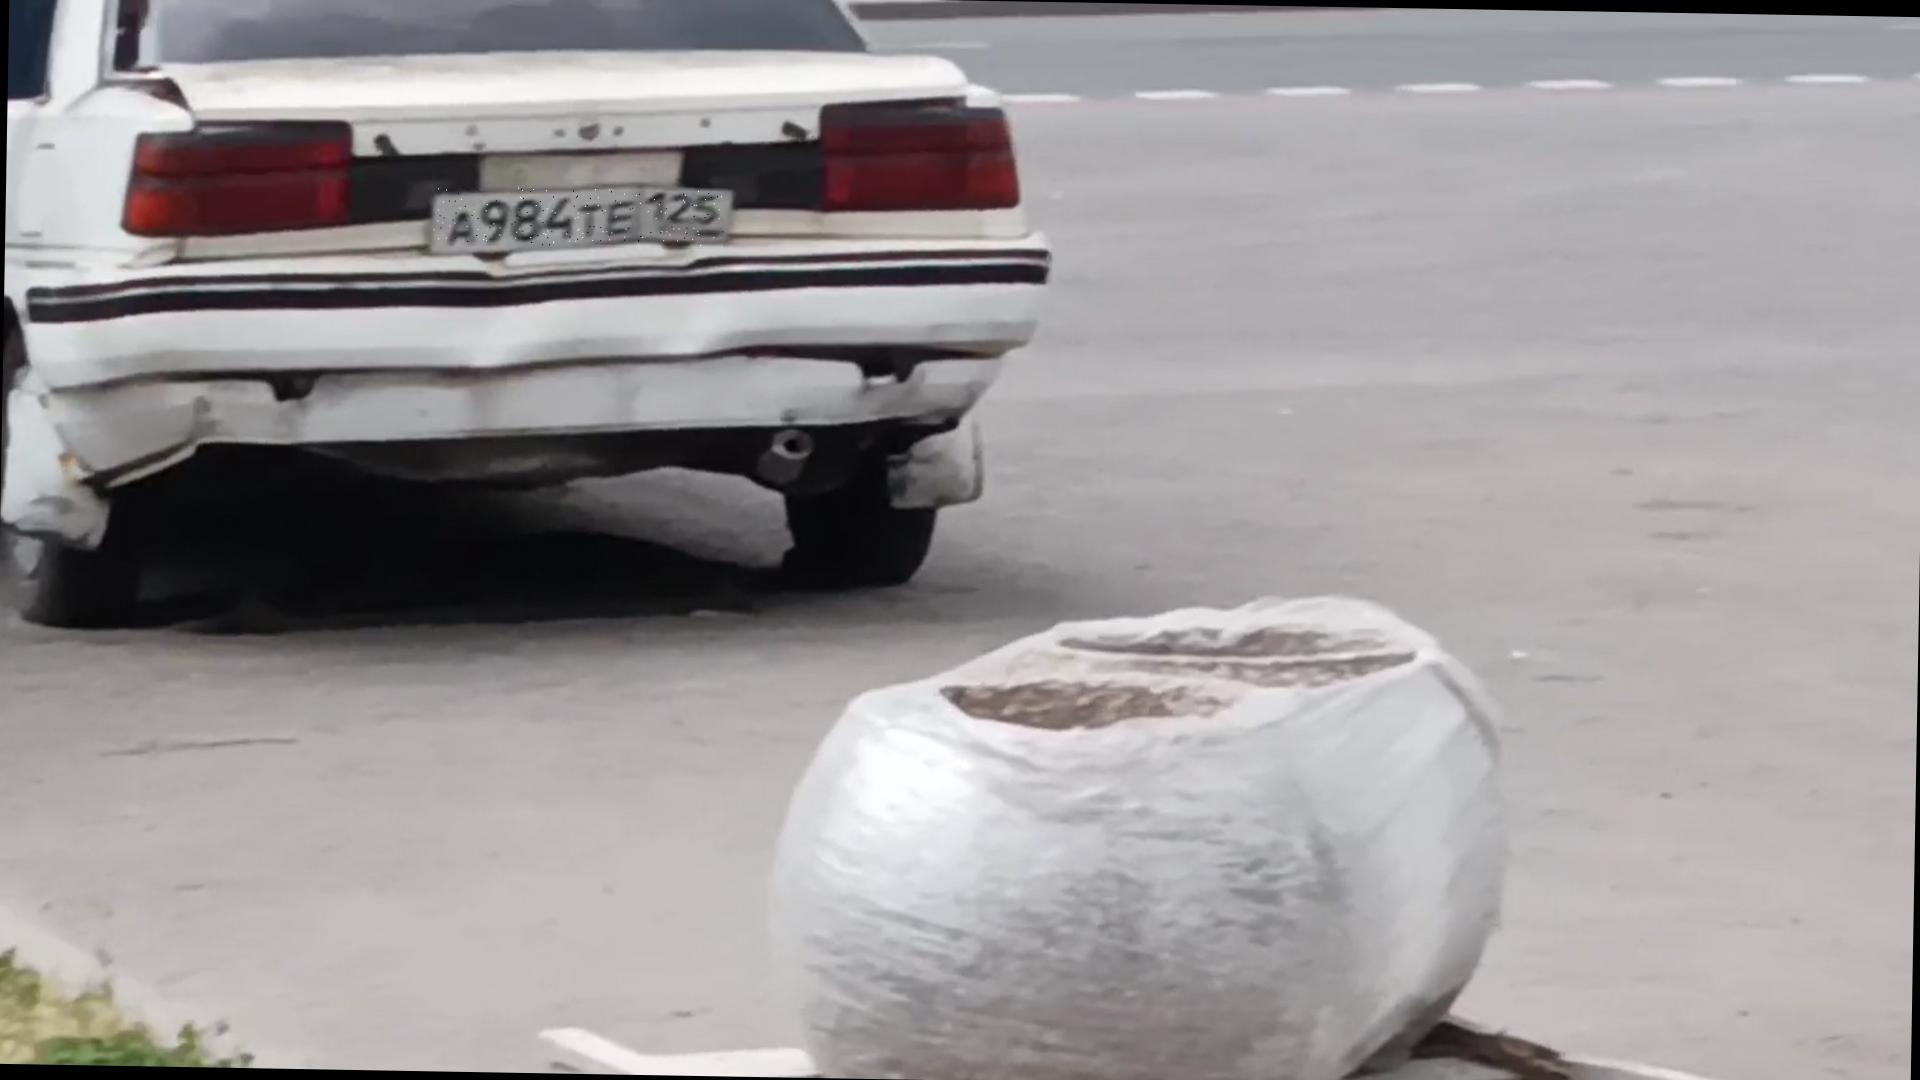plate: (434, 188, 725, 250)
